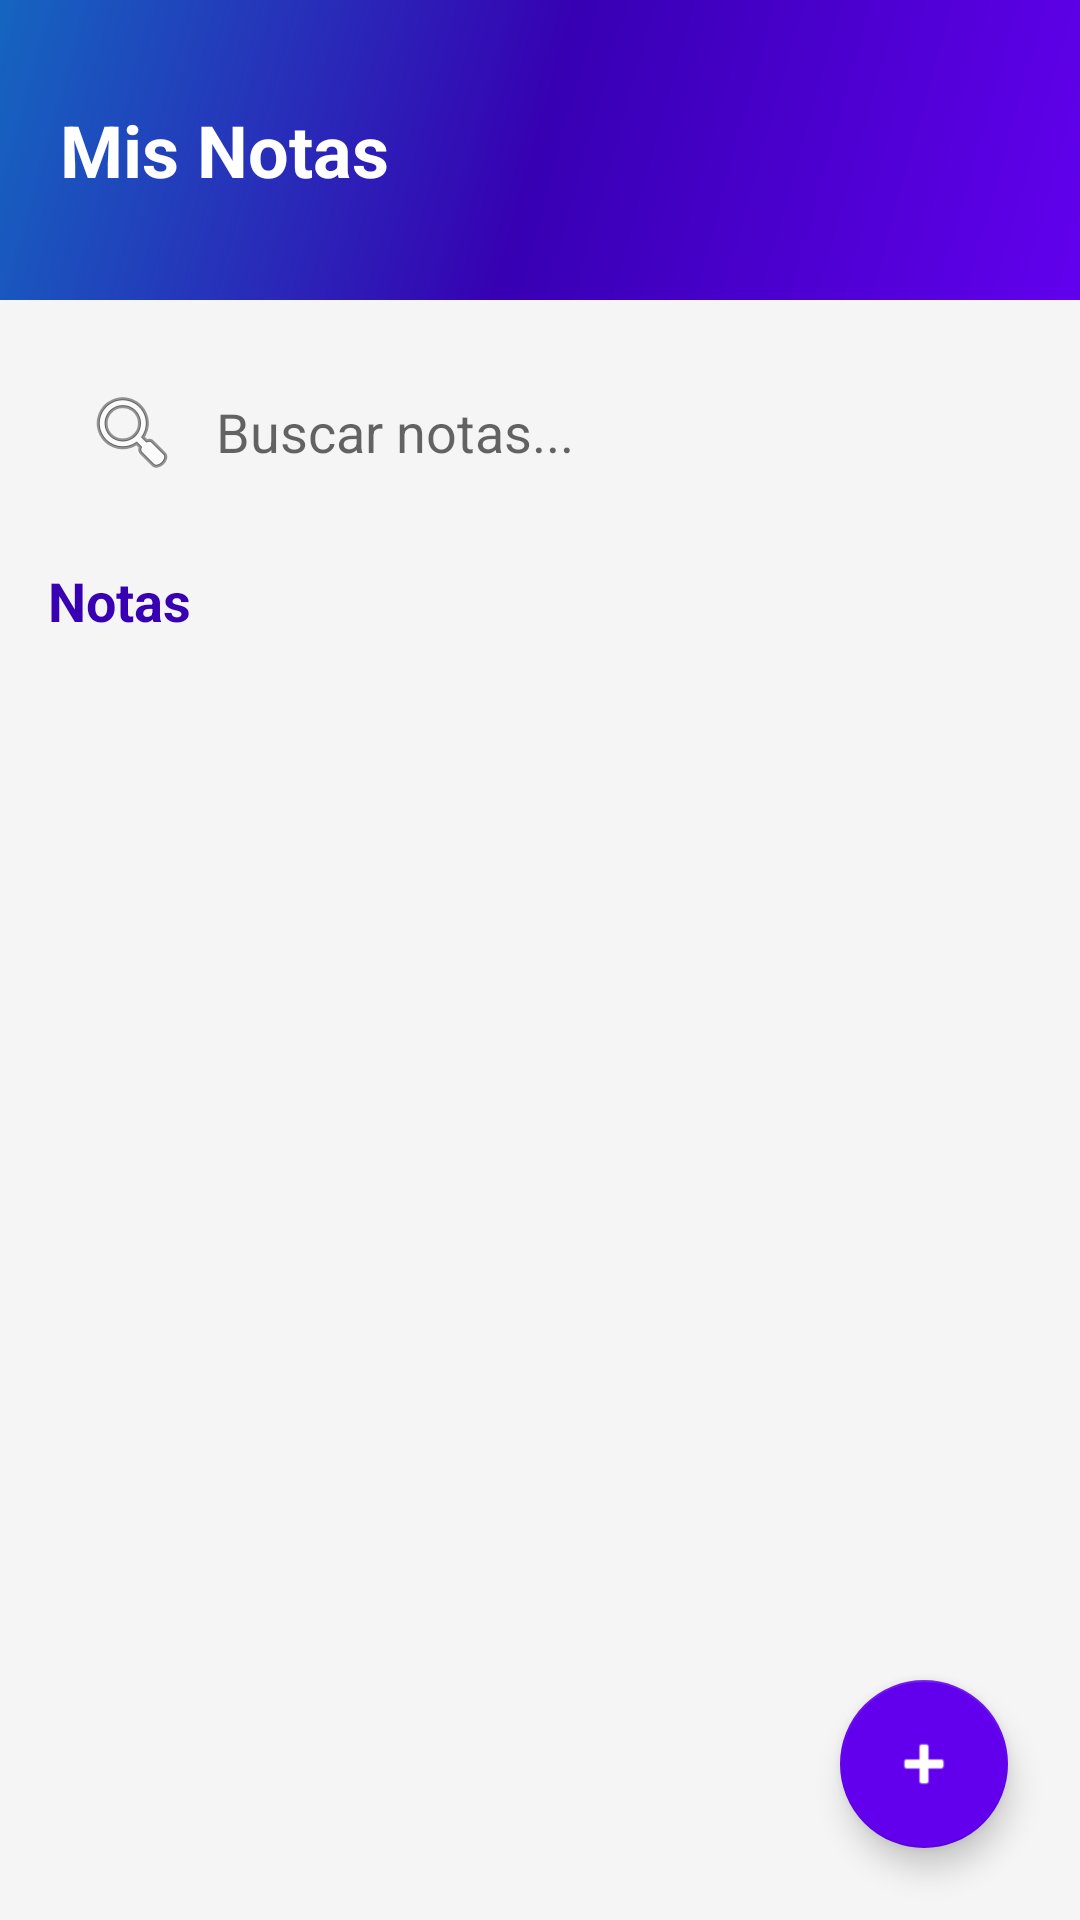

Icons on this 1080 x 1920 Android screen, each with the point to tap as [x,y]:
Agregar Nota: [924,1764]
